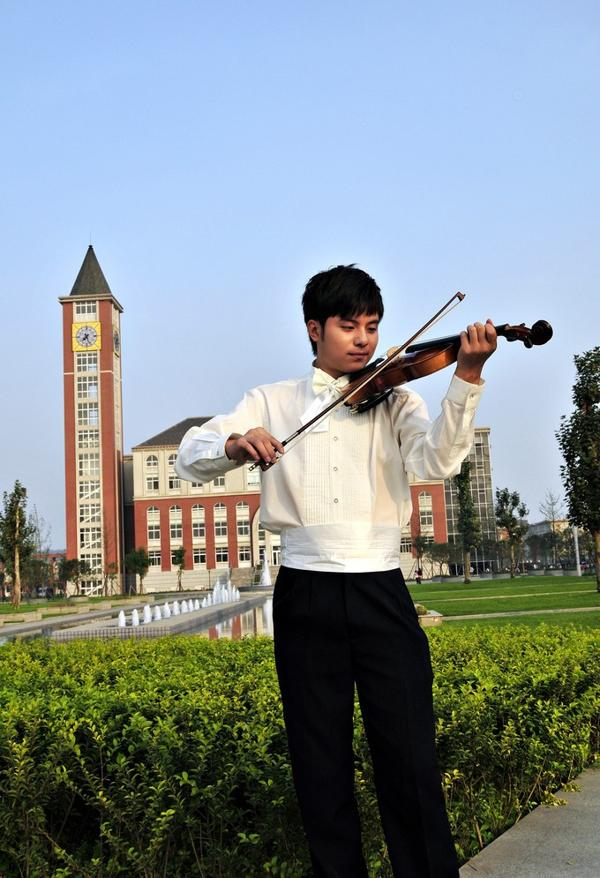person: (176, 264, 498, 878)
